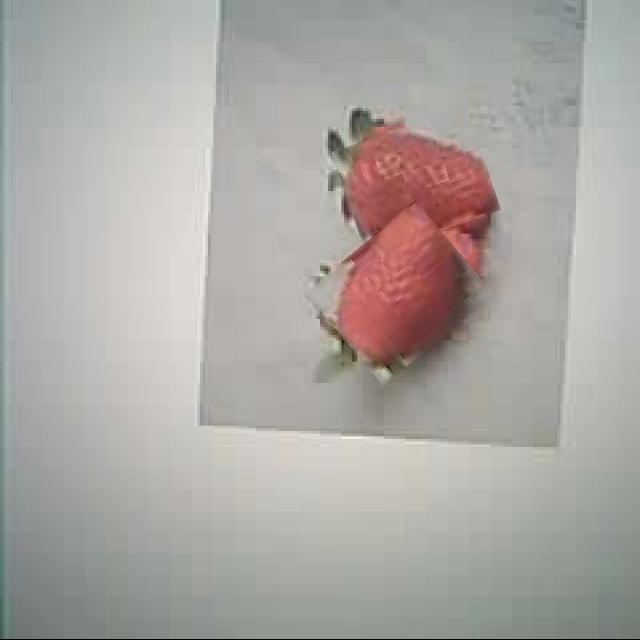strawberry: (316, 216, 482, 370), (338, 116, 494, 246)
